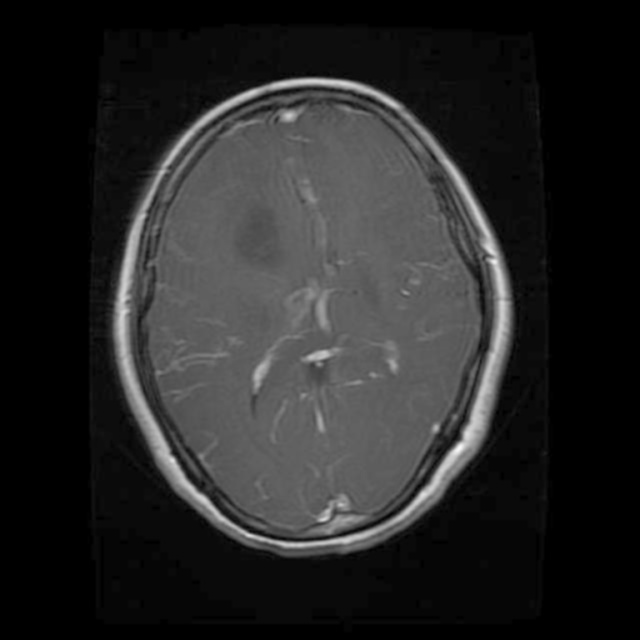pituitary tumor: (232, 201, 284, 269)
